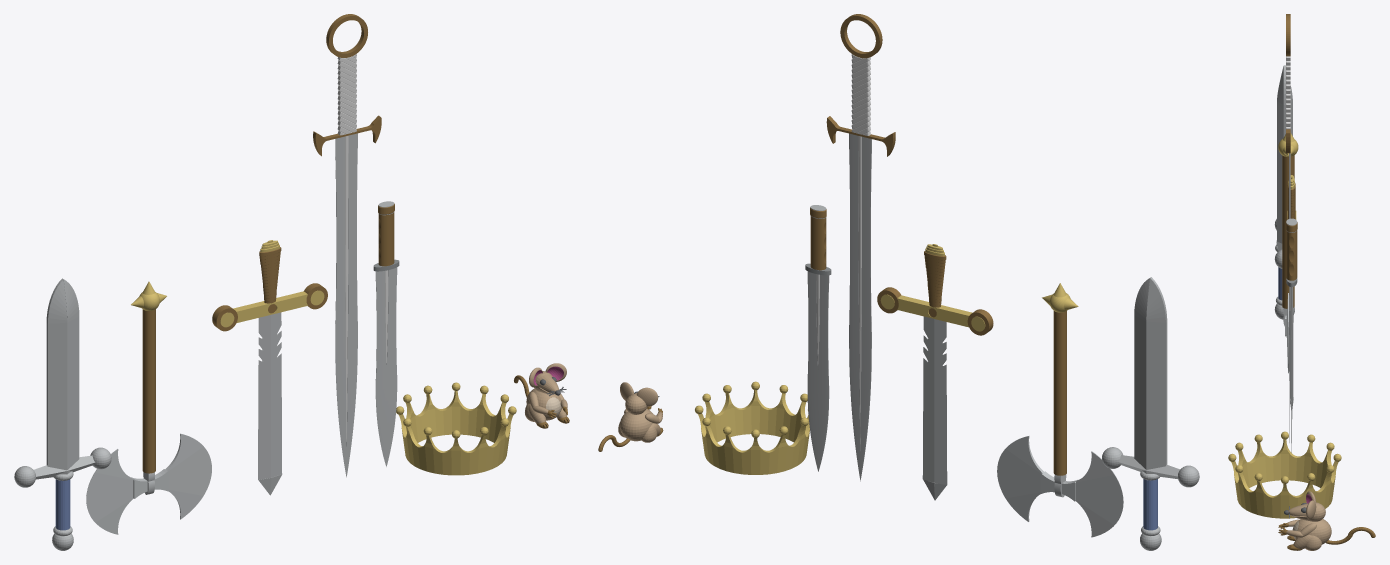
Rendered from swords.glb.
3 renders of one model, left to right at view 1: azimuth 30°, elevation 25°; view 2: azimuth 150°, elevation 25°; view 3: azimuth 270°, elevation 25°, orthographic. The views are drawn at different scales.
Visible parts, largest first — view 1: Mesh_Mesh_head_geo.001_lambert2SG.001; view 2: Mesh_Mesh_head_geo.001_lambert2SG.001; view 3: Mesh_Mesh_head_geo.001_lambert2SG.001.
Boxes of the visible parts, left/top/right/bottom form: Mesh_Mesh_head_geo.001_lambert2SG.001: left=14, top=14, right=569, bottom=550; Mesh_Mesh_head_geo.001_lambert2SG.001: left=598, top=14, right=1199, bottom=550; Mesh_Mesh_head_geo.001_lambert2SG.001: left=1228, top=14, right=1375, bottom=550.
Bounding box in the file's own units: 0.179 × 0.1408 × 0.0434.
